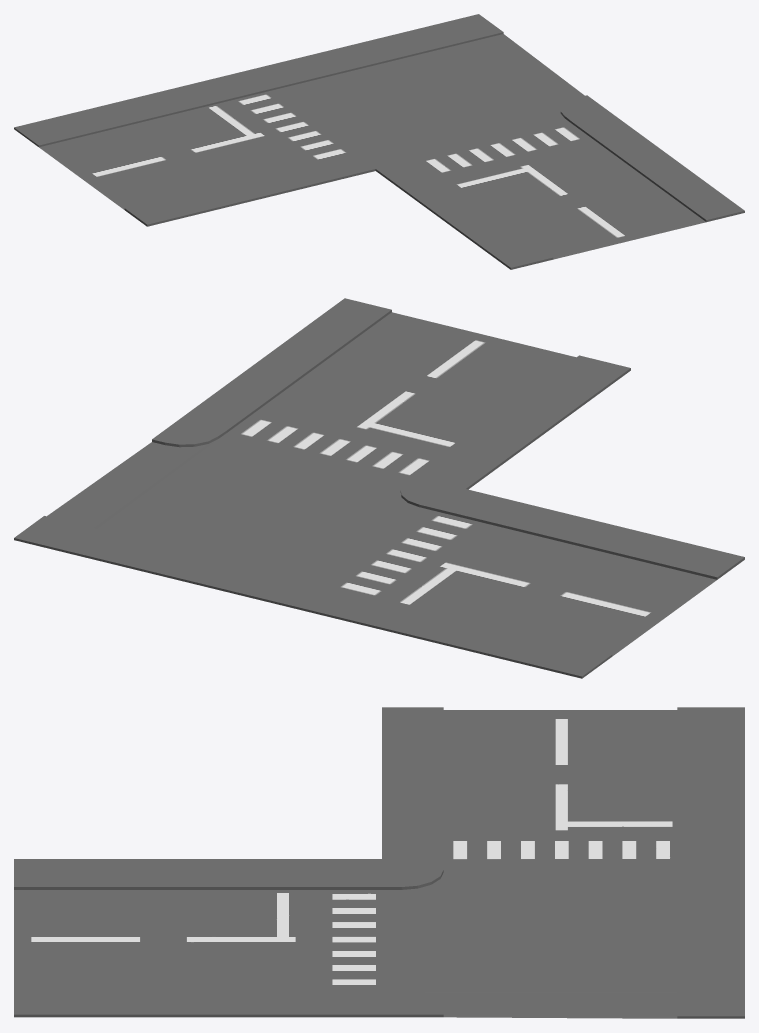
The model's file is road1.fbx.
The picture shows the model from 3 angles, top to bottom: view 1: azimuth 30°, elevation 25°; view 2: azimuth 150°, elevation 25°; view 3: azimuth 270°, elevation 25°; orthographic projection. The views are drawn at different scales.
Parts seen in each view (by area): view 1: road; view 2: road; view 3: road.
Boxes of the visible parts, x1=… form: road: x1=14, y1=14, x2=744, y2=269; road: x1=14, y1=298, x2=744, y2=678; road: x1=14, y1=707, x2=744, y2=1018.
Bounding box in the file's own units: 2198 × 10.48 × 2198.
1 material, 1 textured.
